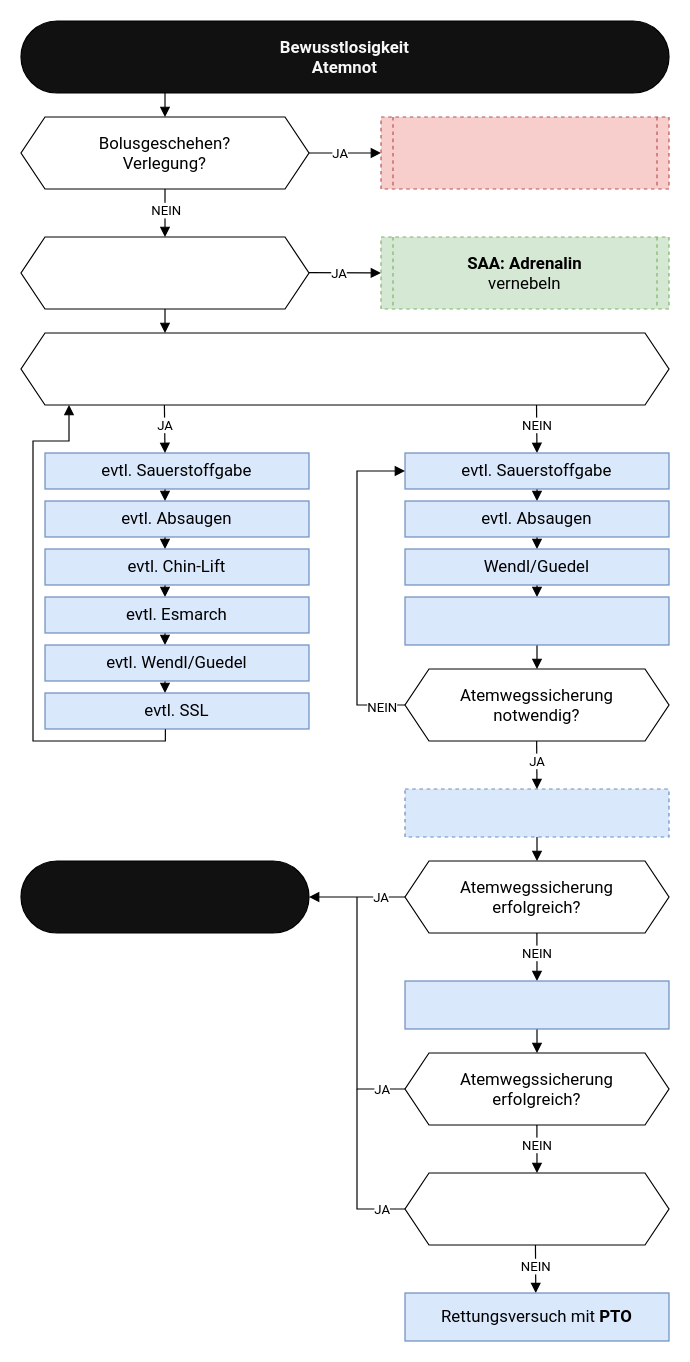
Image size: 690x1362. Some labels were removed from this diagram. The box of each missing label's shape, as (x1, y1, x2, y2) in pixels:
Beatmung: (20, 860, 309, 933)
Beutel-Masken-Beat. möglich?: (404, 1172, 669, 1245)
Beutel-Masken-Beatmung: (404, 596, 669, 645)
BPR: Bolus: (380, 116, 669, 189)
Spontanatmung suffizient?: (20, 332, 669, 405)
Supraglottische Atemwegshilfe: (404, 788, 669, 837)
Versuch ET-Intubation: (404, 980, 669, 1029)
Ödem/Schwellung Rachenbereich?: (20, 236, 309, 309)
